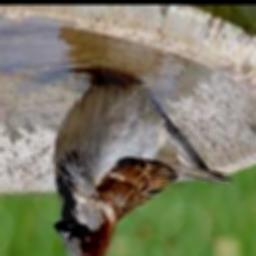Sparrow: (54, 78, 233, 256)
